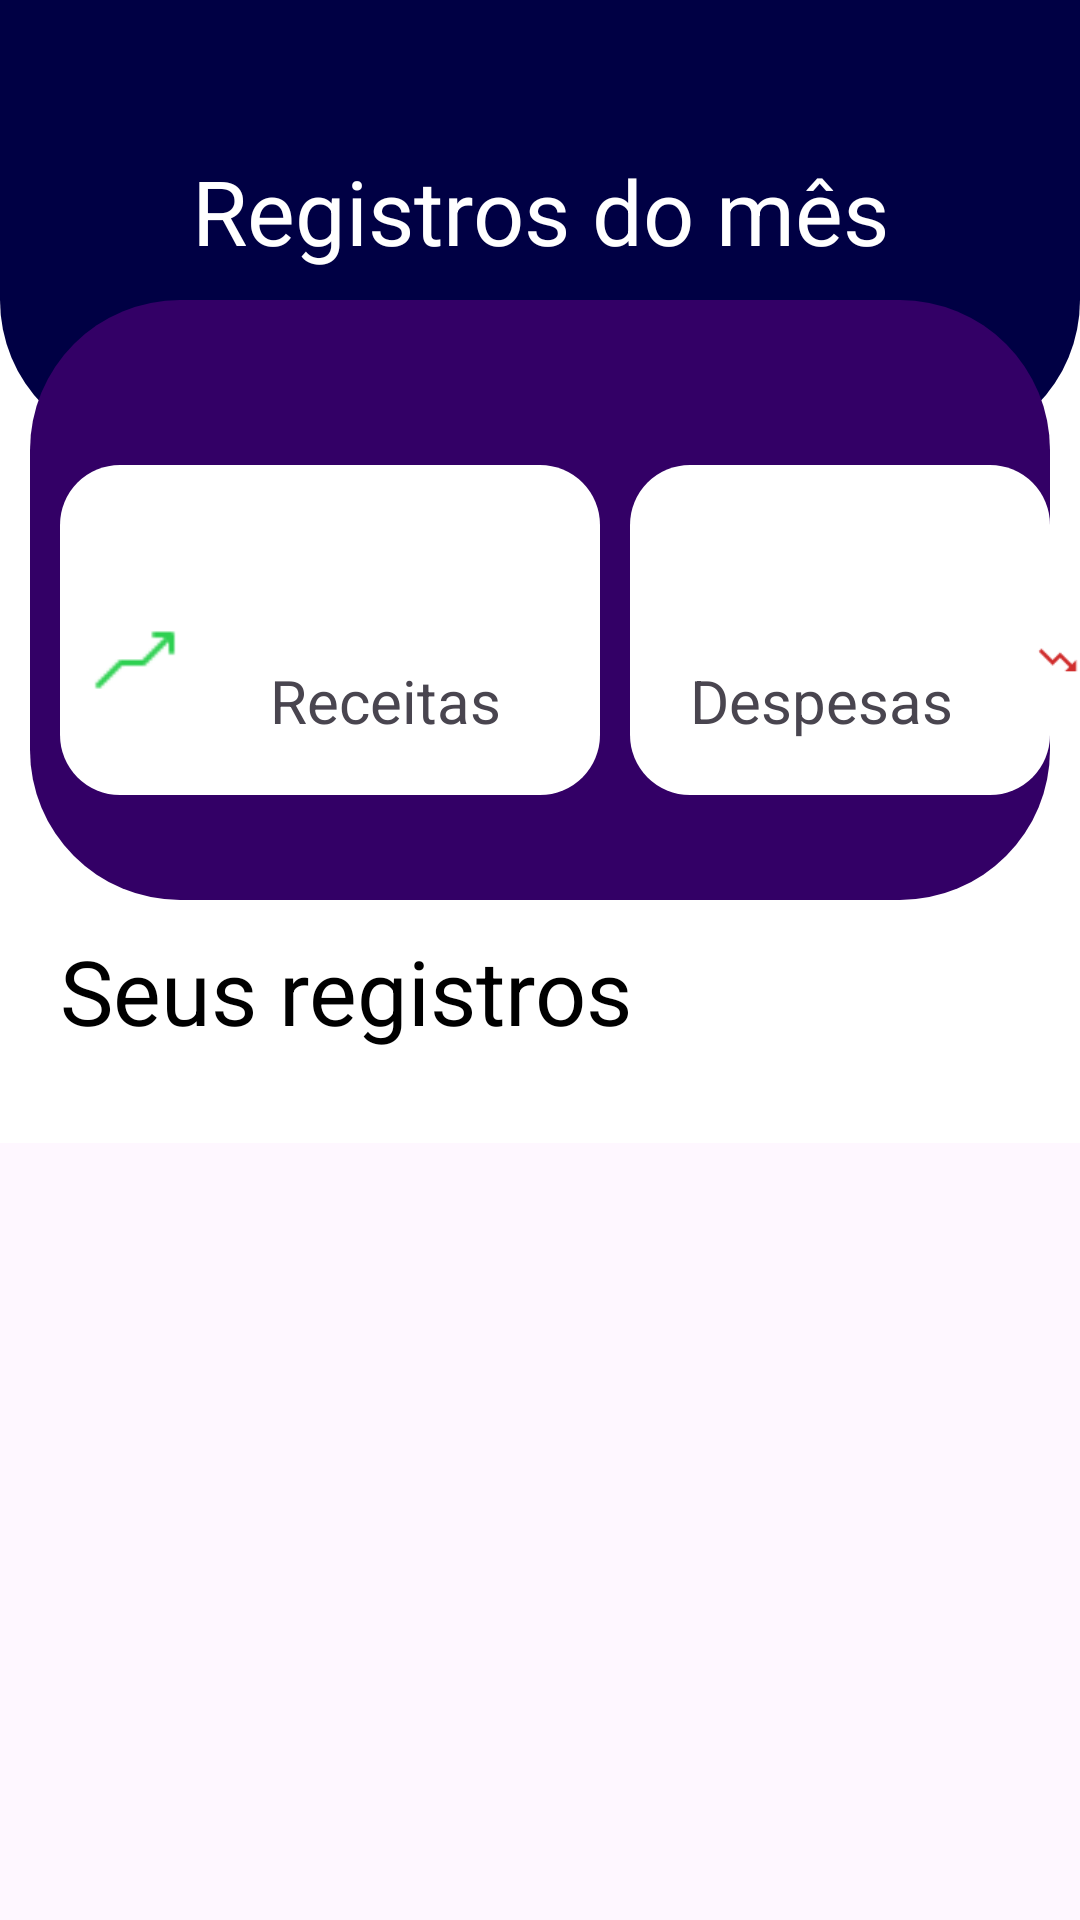

Icons on this 1080*1920 Android screen, each with its box as (x1, y1, x2, y2):
abaixo: (1039, 648, 1077, 672)
